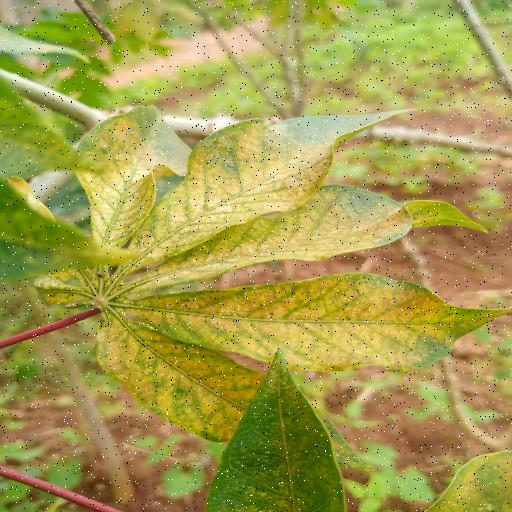Cassava_Mosaic: (28, 99, 512, 466)
